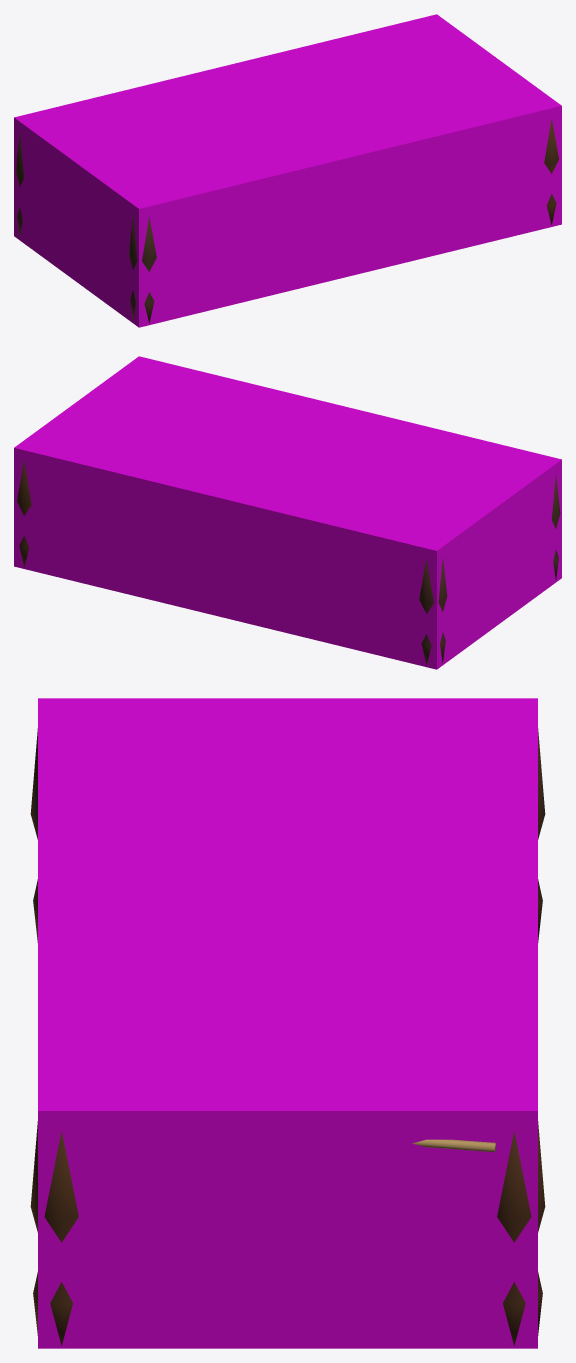
File: PRP_Cot_A.glb
3 renders of one model, top to bottom at view 1: azimuth 30°, elevation 25°; view 2: azimuth 150°, elevation 25°; view 3: azimuth 270°, elevation 25°, orthographic. The views are drawn at different scales.
Visible parts, largest first — view 1: COL_Cot, PRP_Cot_A_Mesh; view 2: COL_Cot, PRP_Cot_A_Mesh; view 3: COL_Cot, PRP_Cot_A_Mesh.
Boxes of the visible parts, box(x1,y1,x2,y2) form: COL_Cot: box(14, 14, 561, 327); PRP_Cot_A_Mesh: box(15, 119, 558, 323); COL_Cot: box(14, 356, 561, 669); PRP_Cot_A_Mesh: box(17, 461, 560, 665); COL_Cot: box(38, 698, 537, 1348); PRP_Cot_A_Mesh: box(30, 728, 545, 1345).
Size of the model in its own units: 2.09 by 0.55 by 1.08.
